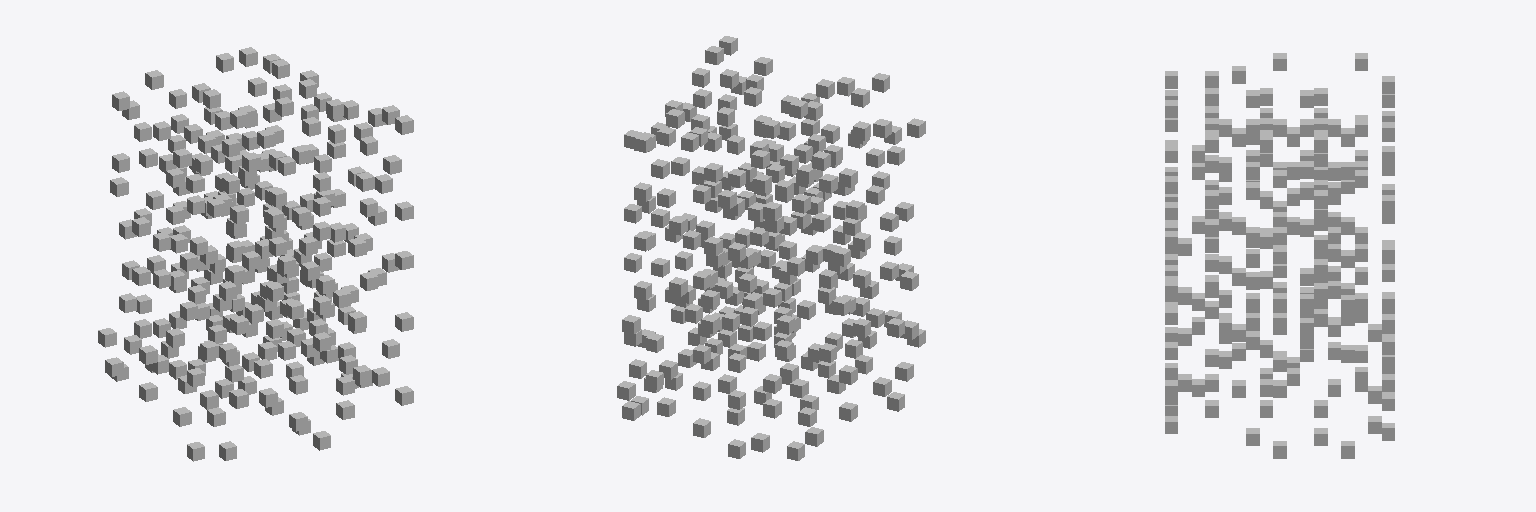
The model's file is fire-02.obj.
3 renders of one model, left to right at view 1: azimuth 30°, elevation 25°; view 2: azimuth 150°, elevation 25°; view 3: azimuth 270°, elevation 25°, orthographic.
Bounding box in the file's own units: 17 × 25 × 17.